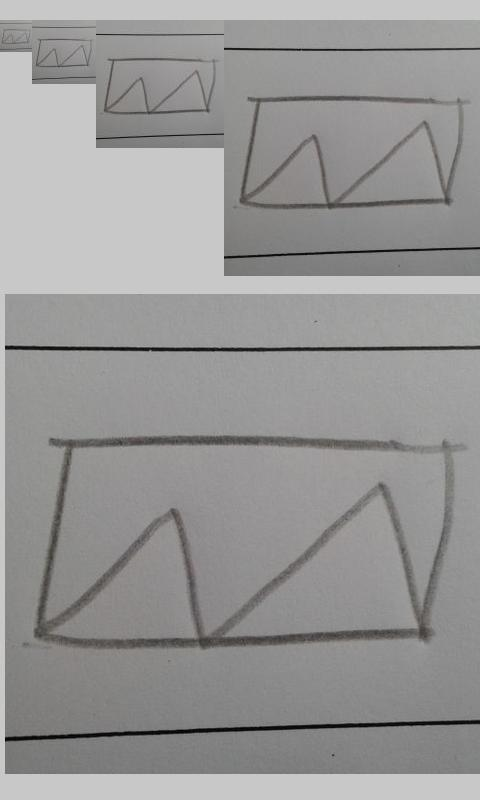image_view: (35, 434, 454, 647), (239, 94, 465, 211), (104, 57, 218, 115), (35, 38, 93, 68), (1, 28, 31, 45)
